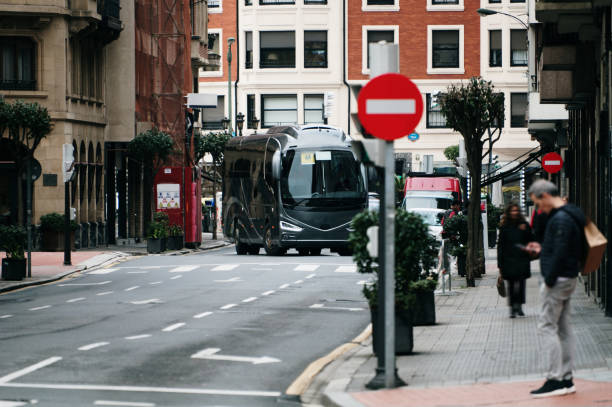Girilmez: (358, 71, 425, 142)
otobus: (215, 118, 368, 273)
yaya: (504, 169, 607, 406)
